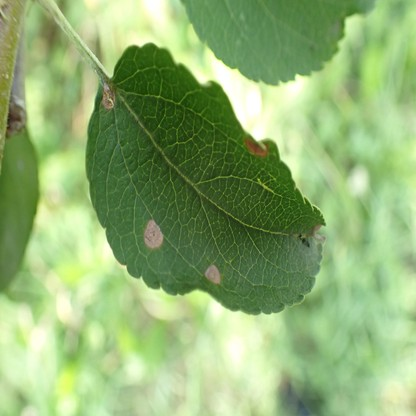frogeye_leaf_spot: (144, 219, 163, 247), (244, 139, 268, 156), (102, 83, 115, 109), (205, 265, 220, 284), (313, 224, 324, 240)
